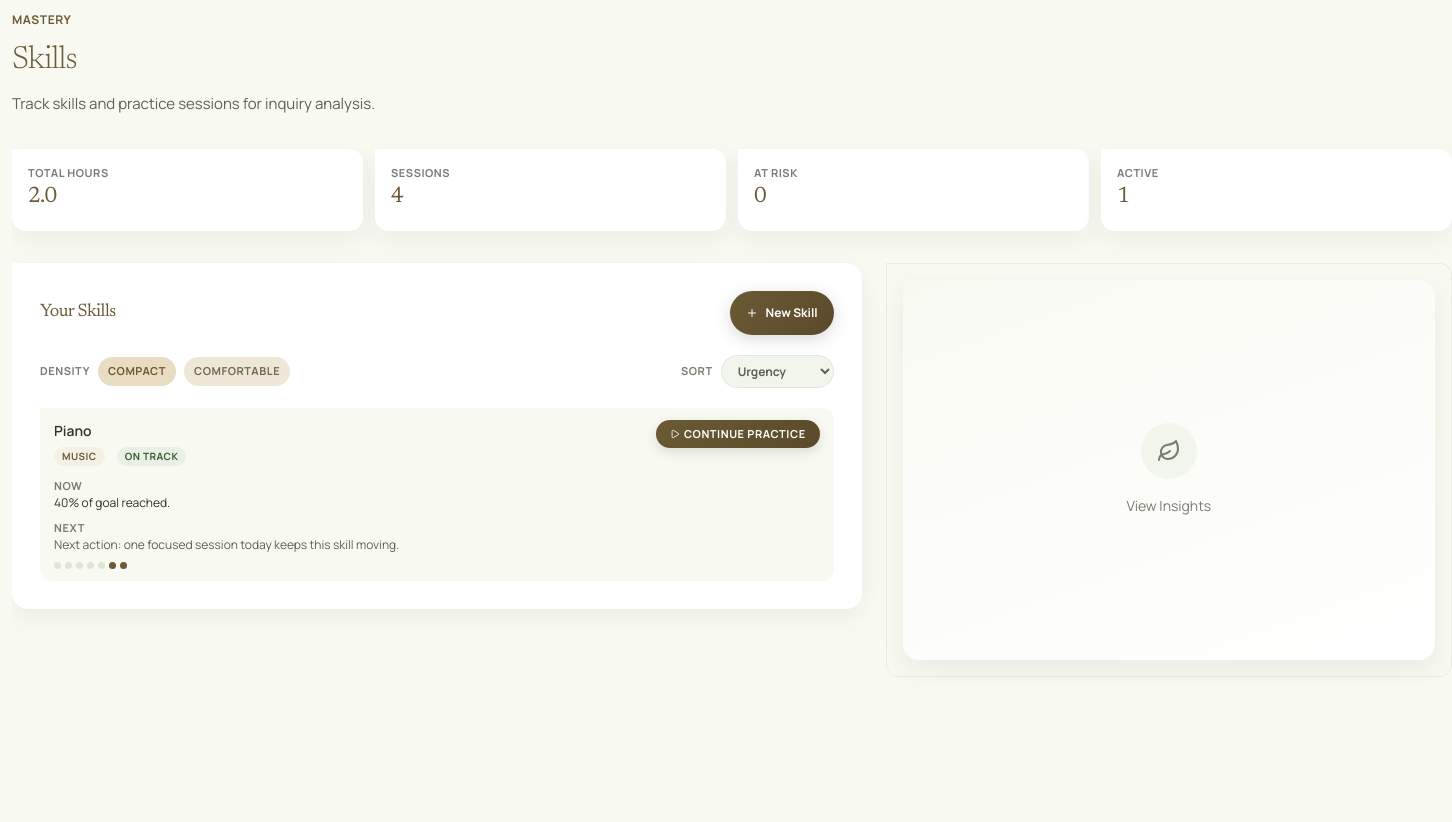
Test case: SkillsPage create flow rollout behavior › supports forecast scenario chips and updates projected summary deterministically
Click the button with aria-label "open details for piano" at [73, 430], box top-left (40, 408), bottom-right (834, 581)
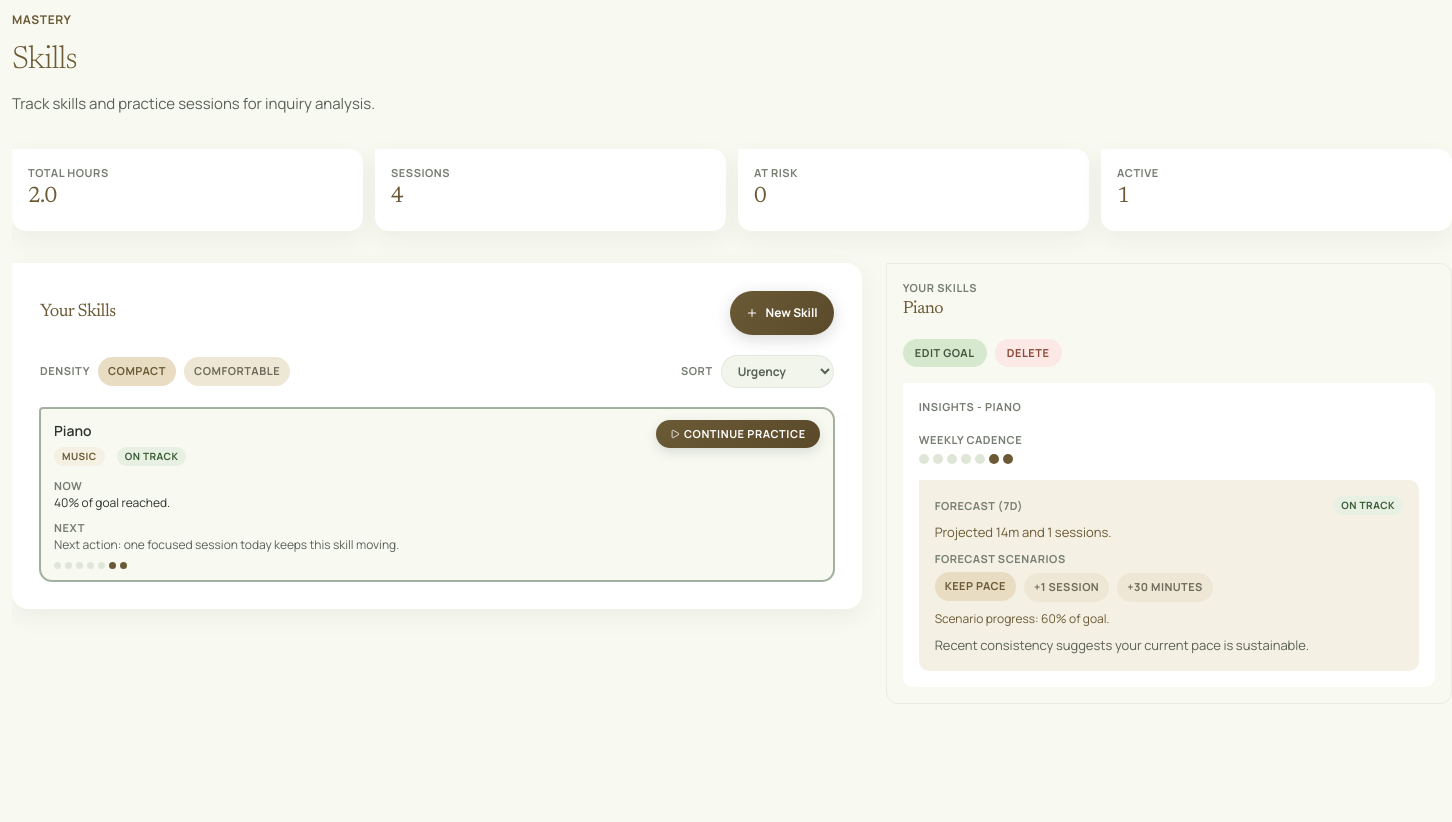
Check: the text "Forecast Scenarios" is shown, box top-left (935, 551), bottom-right (1066, 566)
Check: the text "Projected 14m and 1 sessions." is shown, box top-left (935, 523), bottom-right (1112, 541)
Click the button "+1 Session" at [1067, 588], box top-left (1024, 573), bottom-right (1109, 602)
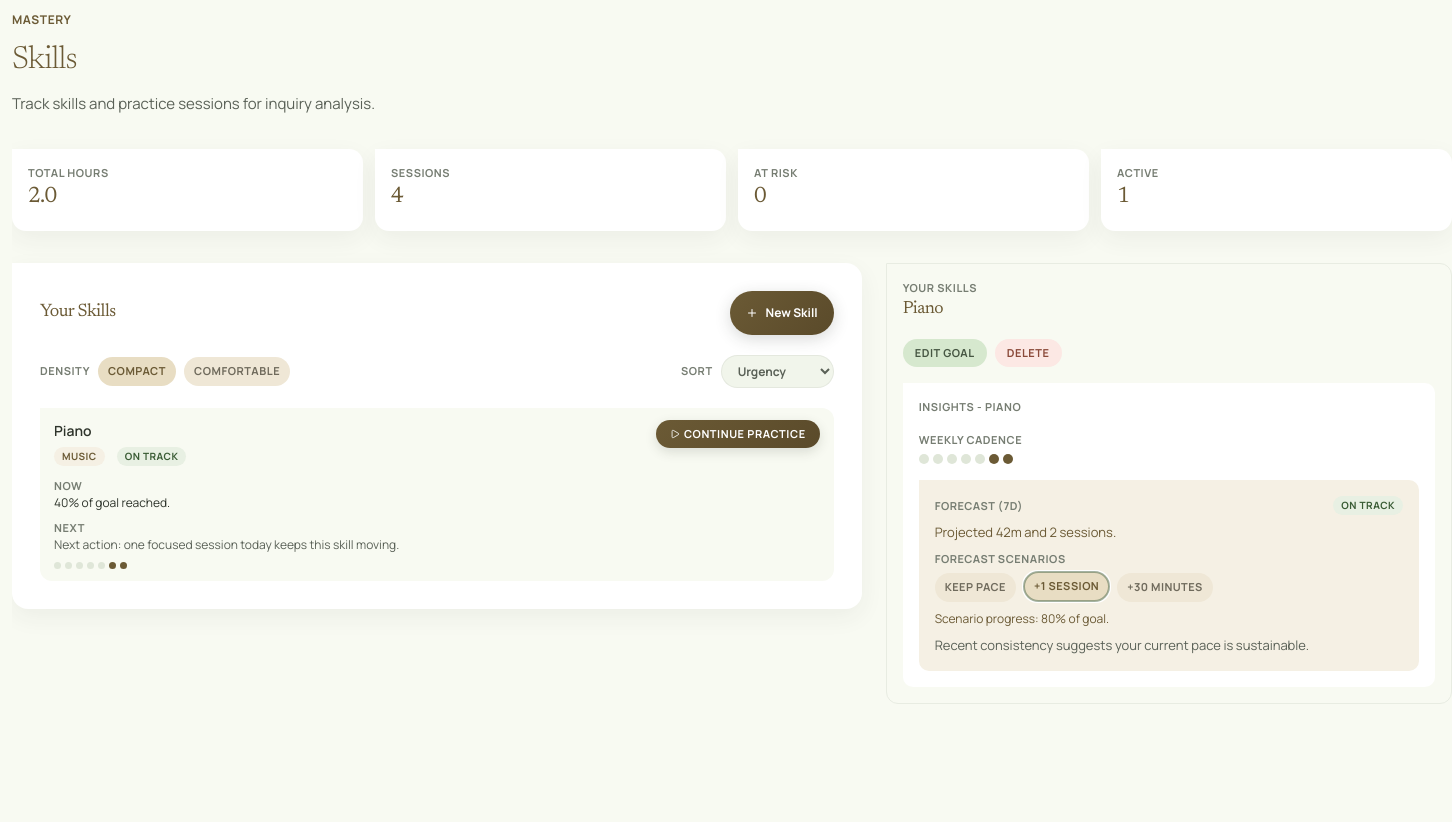
Check: the text "Projected 42m and 2 sessions." is shown, box top-left (935, 523), bottom-right (1116, 541)
Check: the text "Scenario progress: 80% of goal." is shown, box top-left (935, 610), bottom-right (1109, 627)
